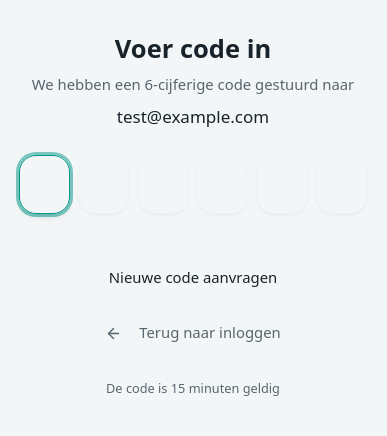
VerifyCodePage › code entry › shows error on invalid code
Step 1. Type "1" into the 1st field → (44,184), box left=19, top=154, right=70, bottom=214
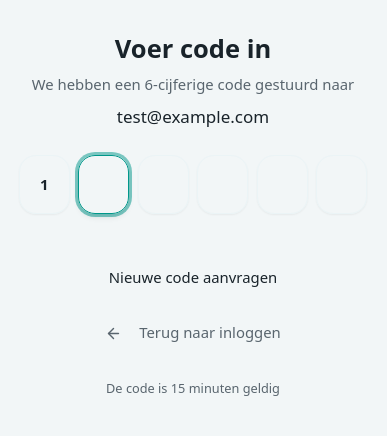
Step 2. Type "2" into the 2nd field → (104,184), box left=78, top=154, right=129, bottom=214
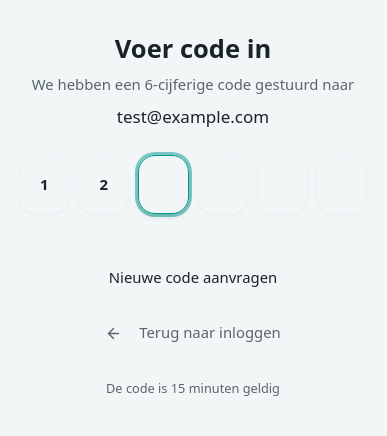
Step 3. Type "3" into the 3rd field → (163,184), box left=138, top=154, right=189, bottom=214
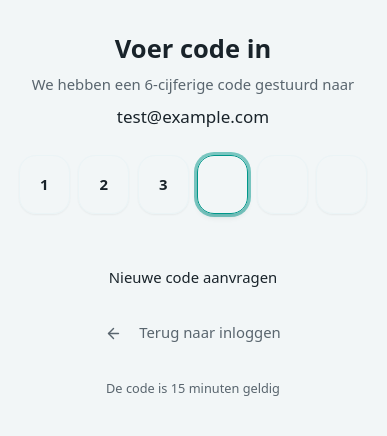
Step 4. Type "4" into the 4th field → (223,184), box left=197, top=154, right=248, bottom=214
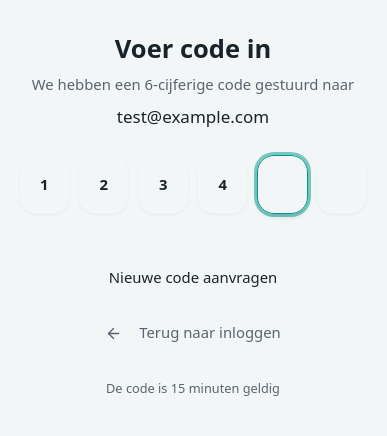
Step 5. Type "5" into the 5th field → (282,184), box left=257, top=154, right=308, bottom=214
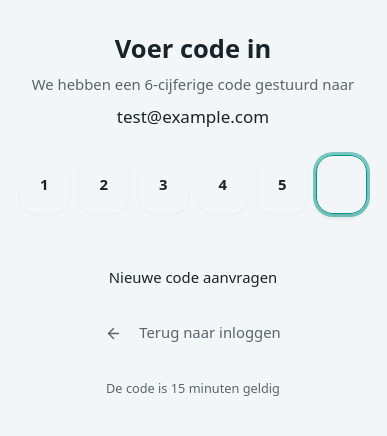
Step 6. Type "6" into the 6th field → (342,184), box left=316, top=154, right=367, bottom=214
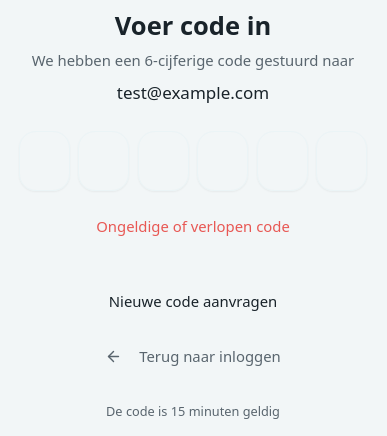
expect the text "Ongeldige of verlopen code" is shown: met, box left=96, top=216, right=290, bottom=236
